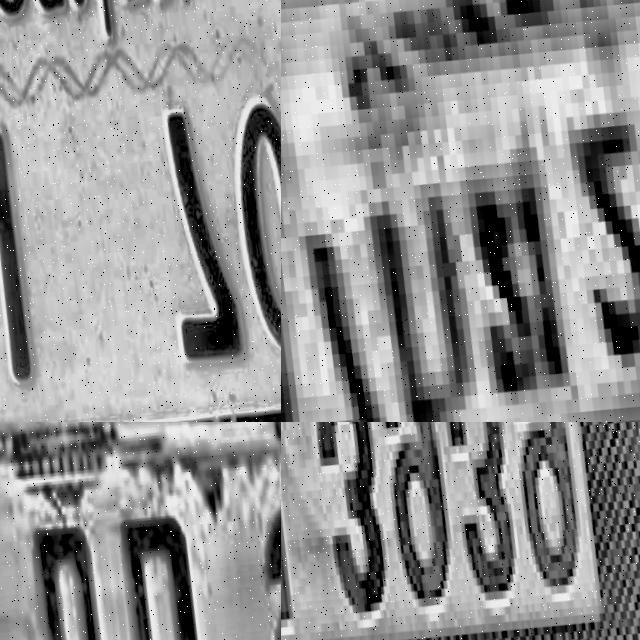license-plate: (281, 0, 640, 422), (0, 0, 281, 422), (281, 422, 640, 640), (0, 422, 281, 640)
